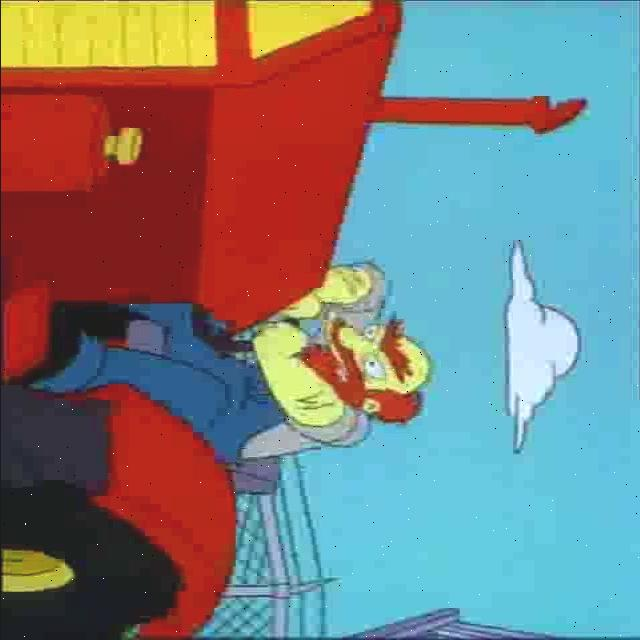Groundskeeper Willie: (287, 318, 433, 427)
